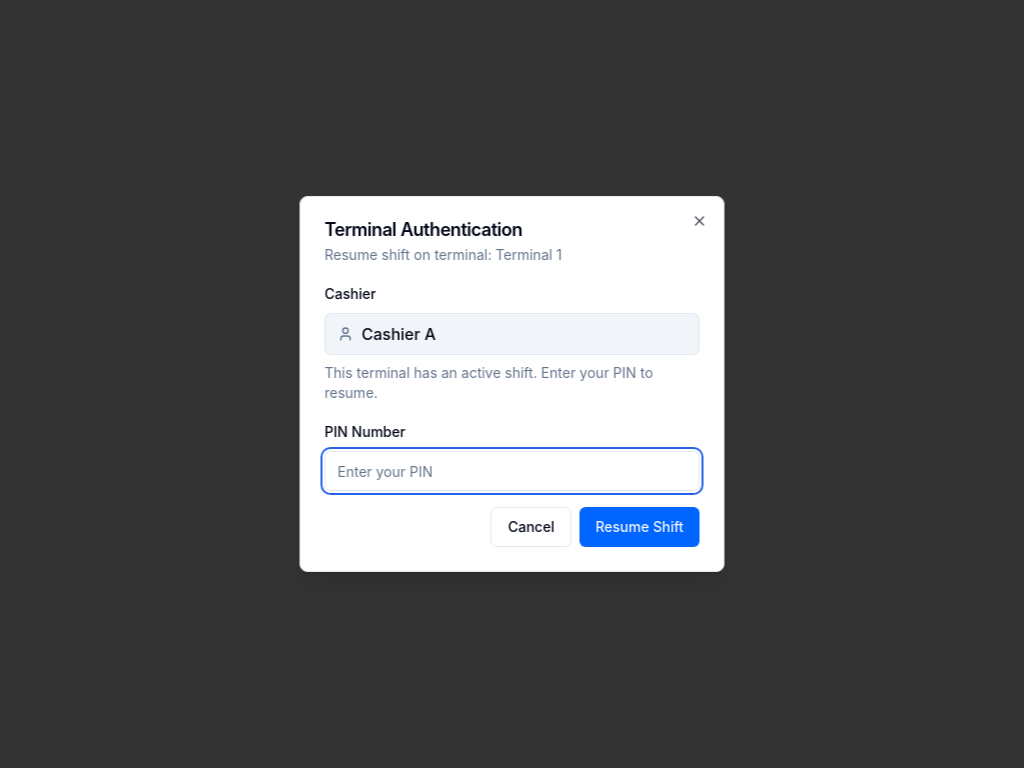
Test: 4.9-SECURITY: TerminalAuthModal Shift Ownership Verification › Shift Ownership Verification › [P0] SECURITY-005: should DENY access when different cashier's ID is returned (ownership mismatch)
This screenshot has width=1024, height=768.
Expected: the element with test id "shift-owner-display" is shown, 324,313 -> 700,355
// Someone enters a PIN (possibly Cashier B somehow)
Type "1234" into the password field with test id "pin-number-input" at (512, 471), box 324,451 -> 700,491
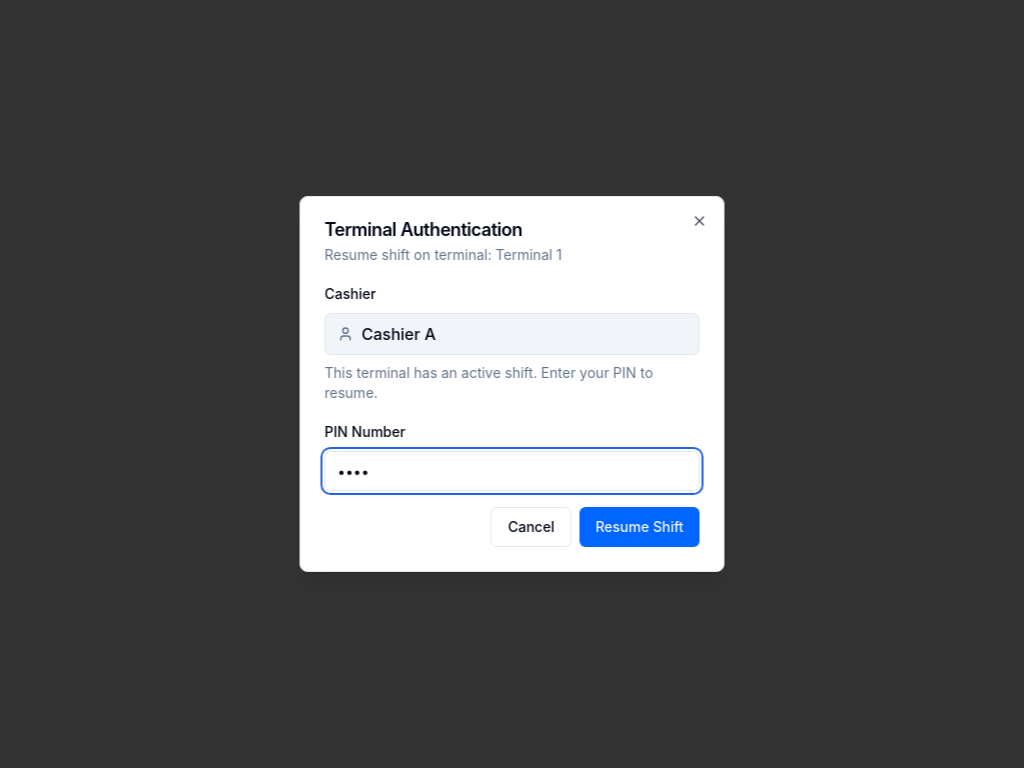
Click the button with test id "terminal-auth-submit-button" at (640, 527), box 580,507 -> 700,547
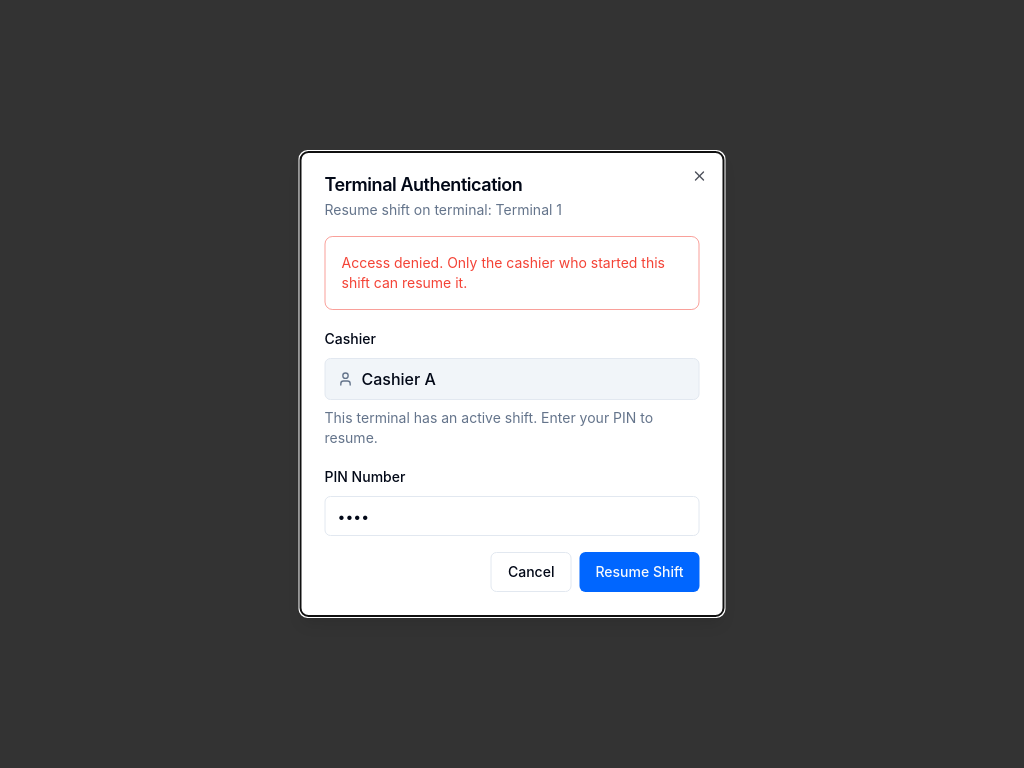
Expected: the message "Access denied. Only the cashier who started this shift can resume it." is shown, 324,236 -> 700,310
Expected: the text "Only the cashier who started this shift" is shown, 342,254 -> 665,291
